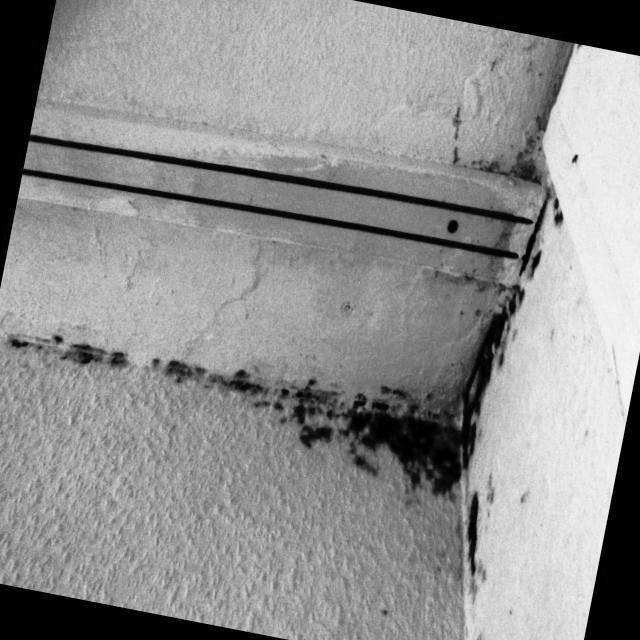stain marks: (30, 243, 552, 532)
